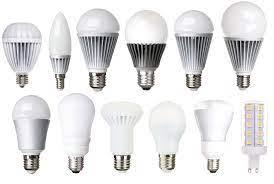Lamp: (217, 1, 269, 88), (121, 7, 171, 94), (96, 98, 147, 181), (171, 6, 215, 100), (190, 94, 238, 180), (53, 89, 99, 177), (74, 9, 122, 93), (146, 95, 190, 179), (9, 92, 54, 172), (0, 18, 46, 90), (237, 96, 271, 177), (45, 11, 75, 91)
